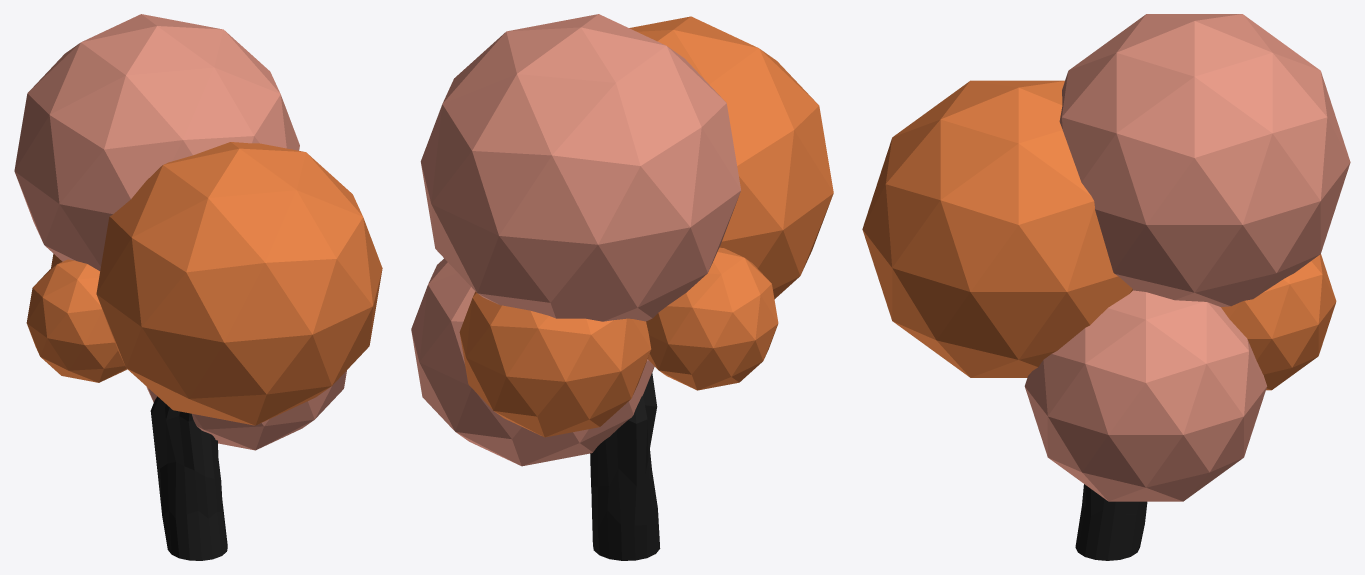
File: Tree.fbx
The picture shows the model from 3 angles, left to right: view 1: azimuth 30°, elevation 25°; view 2: azimuth 150°, elevation 25°; view 3: azimuth 270°, elevation 25°; orthographic projection. The views are drawn at different scales.
Parts seen in each view (by area): view 1: Circle; view 2: Circle; view 3: Circle.
Boxes of the visible parts, x1,y1,x2,y2 form: Circle: (14, 14, 382, 560); Circle: (411, 14, 833, 560); Circle: (862, 14, 1350, 560).
Size of the model in its own units: 572 by 898 by 755.
